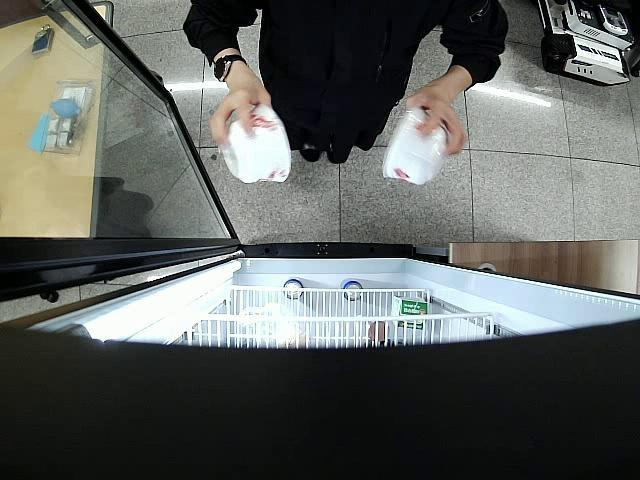09_yukGaeJang: (220, 105, 291, 188), (382, 106, 448, 185)
